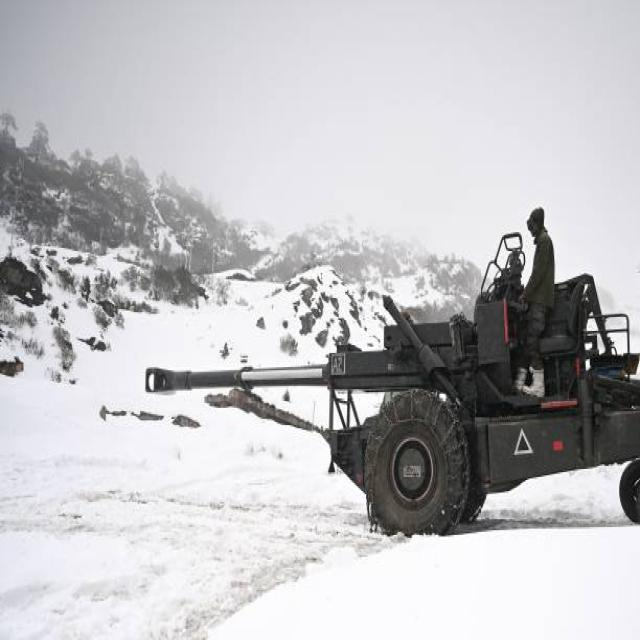soldier: (515, 207, 555, 399)
